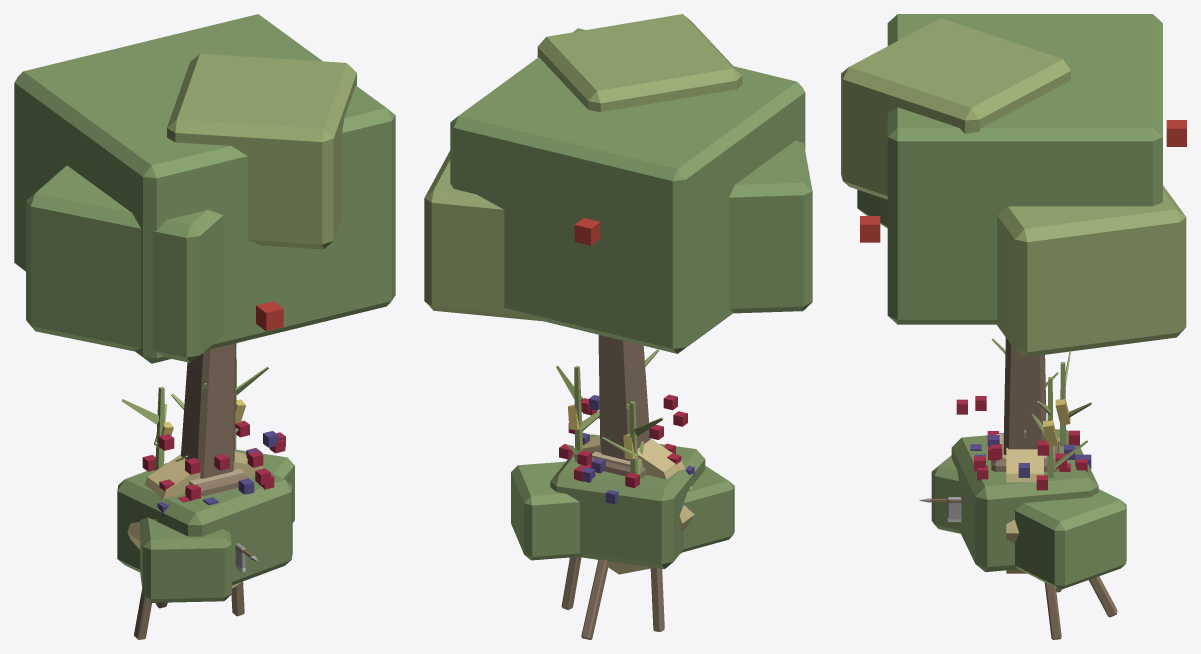
The model's file is dinge.glb.
The picture shows the model from 3 angles, left to right: view 1: azimuth 30°, elevation 25°; view 2: azimuth 150°, elevation 25°; view 3: azimuth 270°, elevation 25°; orthographic projection. The views are drawn at different scales.
Visible parts, largest first — view 1: Apfelbaum, Beerenbusch, Beerenbusch_Beeren, Zielscheibe, Wildmais, Stumpf, Apfelbaum_Aepfel; view 2: Apfelbaum, Beerenbusch, Zielscheibe, Beerenbusch_Beeren, Wildmais, Apfelbaum_Aepfel, Stumpf; view 3: Apfelbaum, Beerenbusch, Beerenbusch_Beeren, Zielscheibe, Wildmais, Apfelbaum_Aepfel.
Part boxes in pixels (x1,y1,x2,y2): Apfelbaum: (14,14,395,478); Beerenbusch: (117,449,294,602); Beerenbusch_Beeren: (142,420,285,516); Zielscheibe: (127,451,262,639); Wildmais: (122,359,268,471); Stumpf: (165,462,248,496); Apfelbaum_Aepfel: (256,301,283,331); Apfelbaum: (424,14,812,460); Beerenbusch: (511,434,734,568); Zielscheibe: (561,436,694,639); Beerenbusch_Beeren: (559,394,694,504); Wildmais: (556,349,663,477); Apfelbaum_Aepfel: (574,218,600,245); Stumpf: (590,446,664,478); Apfelbaum: (841,14,1186,454); Beerenbusch: (931,429,1126,589); Beerenbusch_Beeren: (956,396,1091,490); Zielscheibe: (1006,447,1117,639); Wildmais: (991,338,1091,477); Apfelbaum_Aepfel: (860,120,1186,242).
Bounding box in the file's own units: 3.35 × 4.94 × 2.75.
